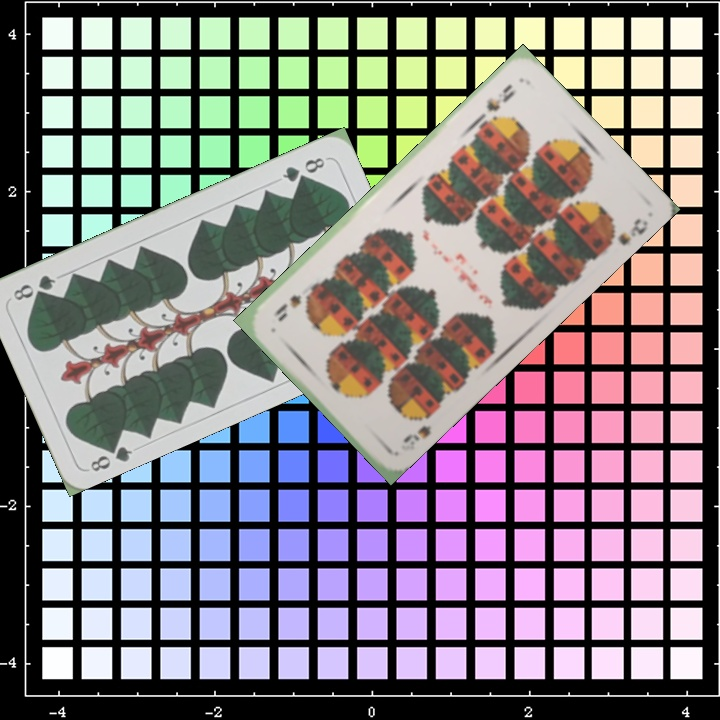G8: (86, 436, 135, 475), (278, 153, 328, 185)
S9: (476, 79, 518, 125), (399, 406, 437, 446)
